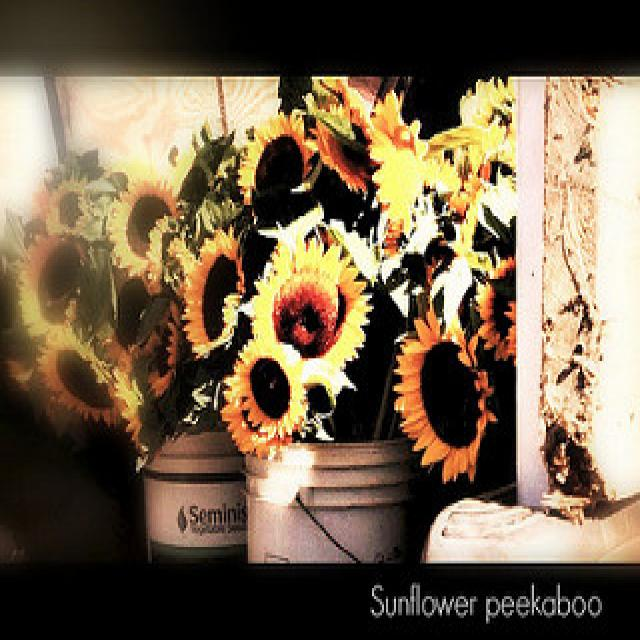sunflower: (387, 309, 499, 484), (253, 220, 371, 382), (28, 319, 140, 439), (218, 337, 310, 462), (105, 157, 189, 286), (314, 83, 398, 204), (235, 105, 317, 223), (15, 223, 89, 346), (180, 224, 246, 358), (469, 249, 517, 369), (136, 287, 182, 405), (49, 168, 95, 240)
